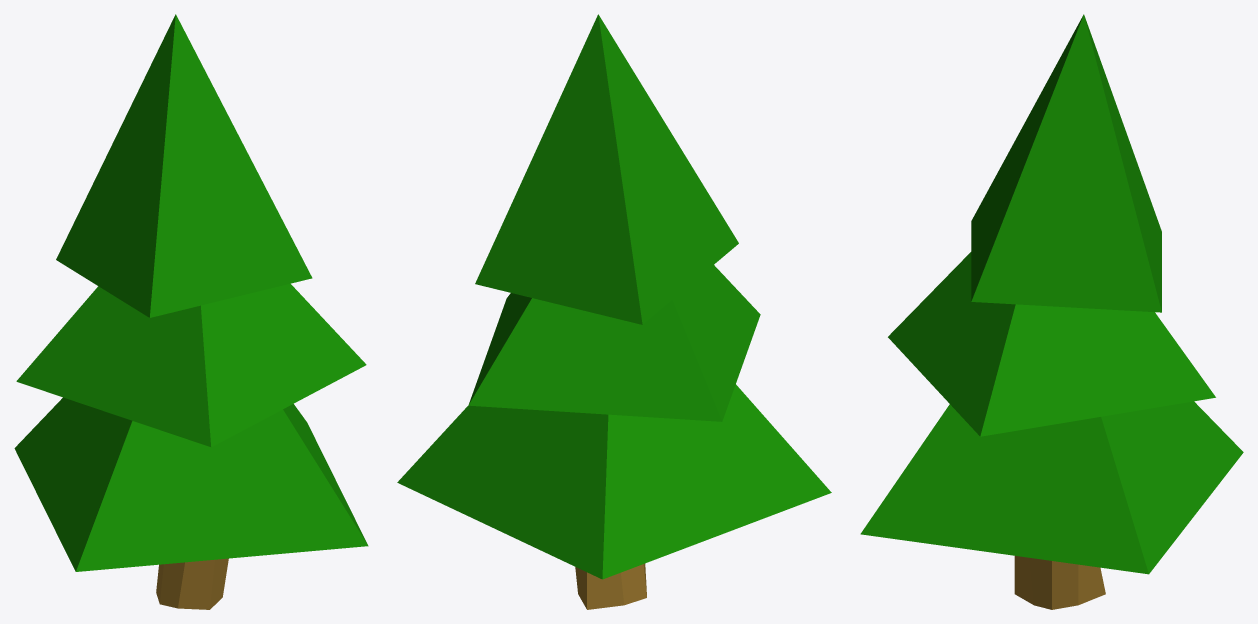
File: tree.fbx
The picture shows the model from 3 angles, left to right: view 1: azimuth 30°, elevation 25°; view 2: azimuth 150°, elevation 25°; view 3: azimuth 270°, elevation 25°; orthographic projection. The views are drawn at different scales.
Visible parts, largest first — view 1: fir_1; view 2: fir_1; view 3: fir_1.
Part boxes in pixels (<box>): fir_1: <box>14,14,368,609</box>; fir_1: <box>397,14,831,609</box>; fir_1: <box>860,14,1243,609</box>.
Bounding box in the file's own units: 331 × 552 × 331.
